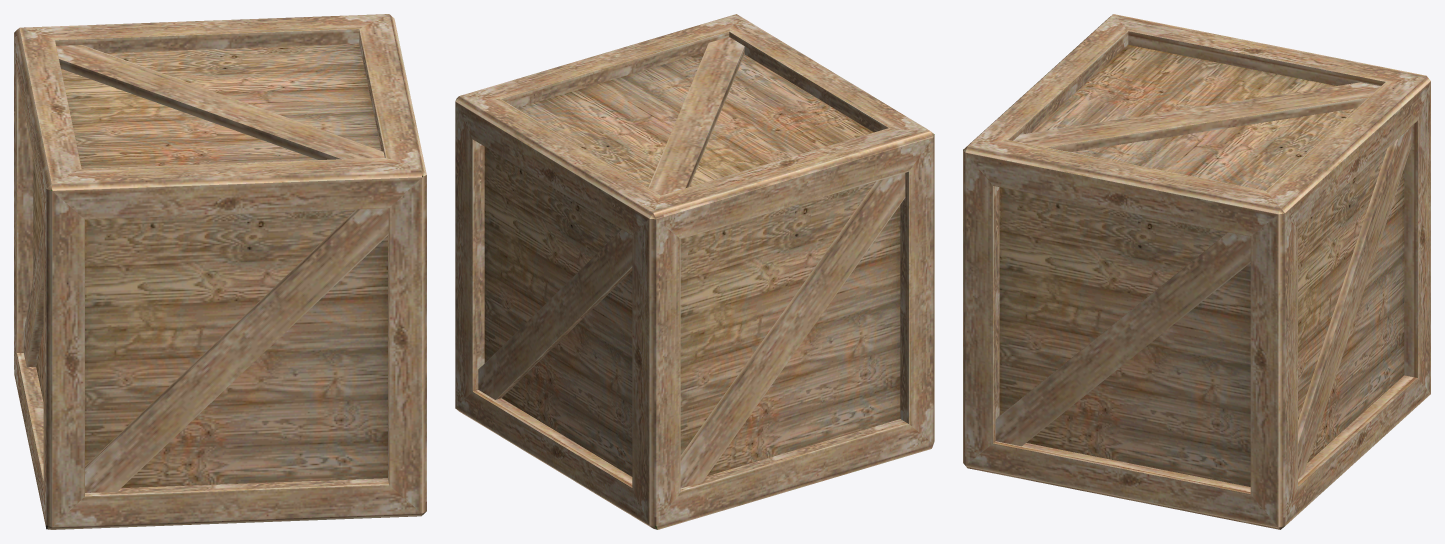
The model's file is pallettebox002_woodbox_dm_0_lev1.glb.
3 views of the same model, side by side, from view 1: azimuth 30°, elevation 25°; view 2: azimuth 150°, elevation 25°; view 3: azimuth 270°, elevation 25° (orthographic). The views are drawn at different scales.
Visible parts, largest first — view 1: pallettebox002_woodbox_dm_0_lev1; view 2: pallettebox002_woodbox_dm_0_lev1; view 3: pallettebox002_woodbox_dm_0_lev1.
Boxes of the visible parts, left/top/right/bottom form: pallettebox002_woodbox_dm_0_lev1: left=14, top=14, right=426, bottom=529; pallettebox002_woodbox_dm_0_lev1: left=455, top=14, right=934, bottom=529; pallettebox002_woodbox_dm_0_lev1: left=963, top=14, right=1430, bottom=529.
Size of the model in its own units: 1.06 by 0.803 by 1.06.
Materials: 1 (1 with a texture image).
